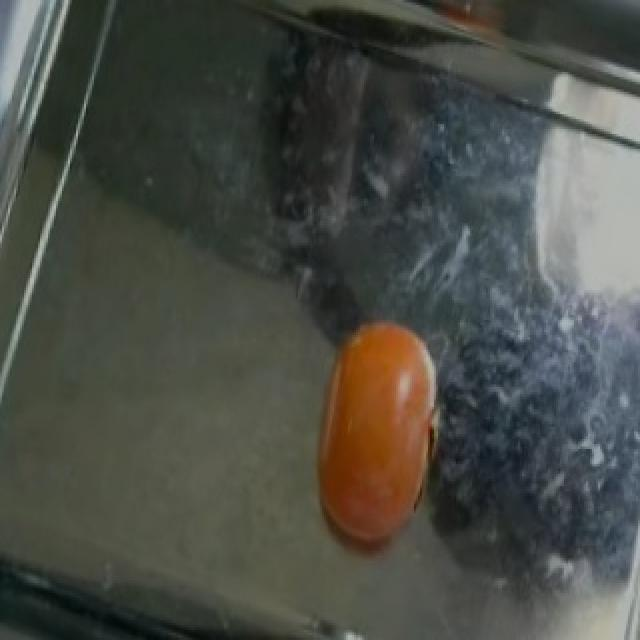Fruit: (292, 305, 462, 573)
